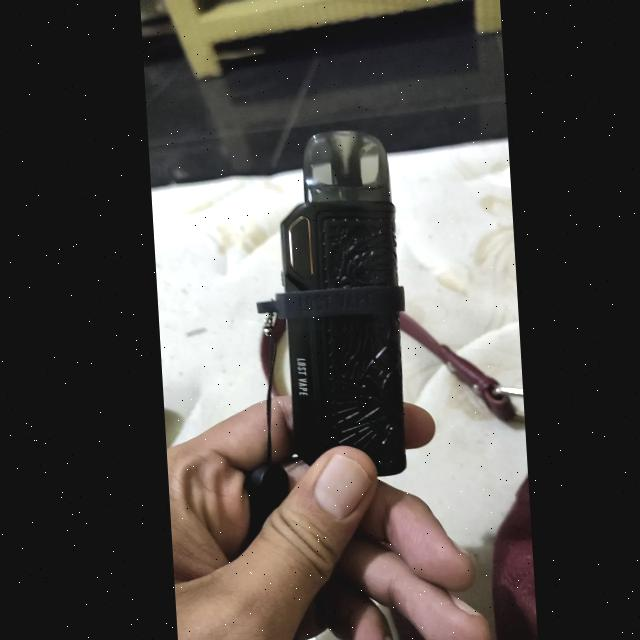vape: (273, 132, 409, 472)
